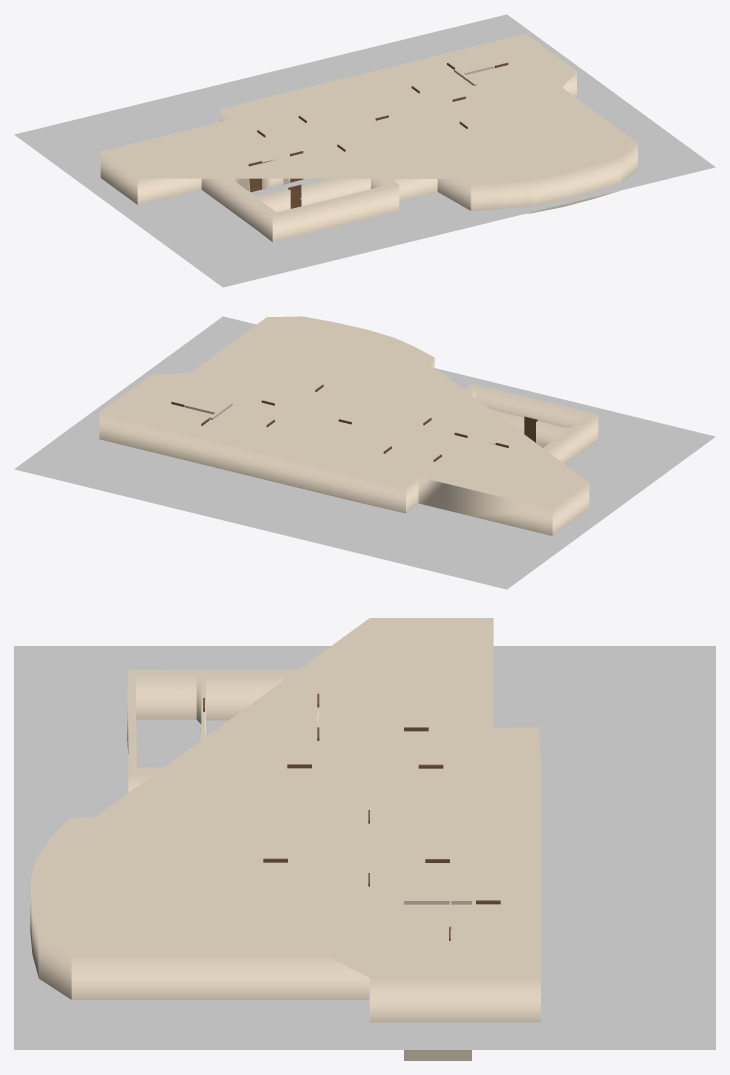
Rendered from genral-mao-grey-box.fbx.
3 views of the same model, one above another, from view 1: azimuth 30°, elevation 25°; view 2: azimuth 150°, elevation 25°; view 3: azimuth 270°, elevation 25° (orthographic). The views are drawn at different scales.
Parts seen in each view (by area): view 1: pCylinder14; view 2: pCylinder14; view 3: pCylinder14.
Part boxes in pixels (x1,y1,x2,y2): pCylinder14: [14, 14, 715, 287]; pCylinder14: [14, 316, 715, 589]; pCylinder14: [14, 618, 715, 1060].
Size of the model in its own units: 2103 by 388 by 1544.
